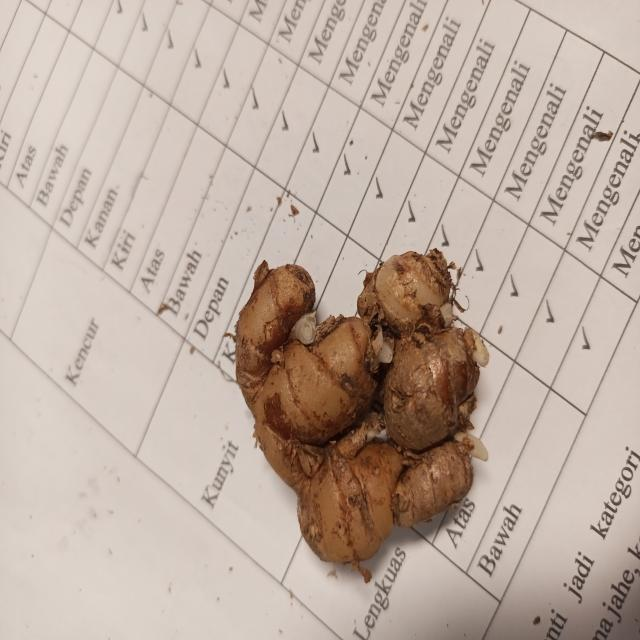ginger: (243, 260, 469, 550)
